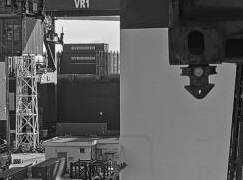twist_lock_2: (168, 56, 224, 107)
